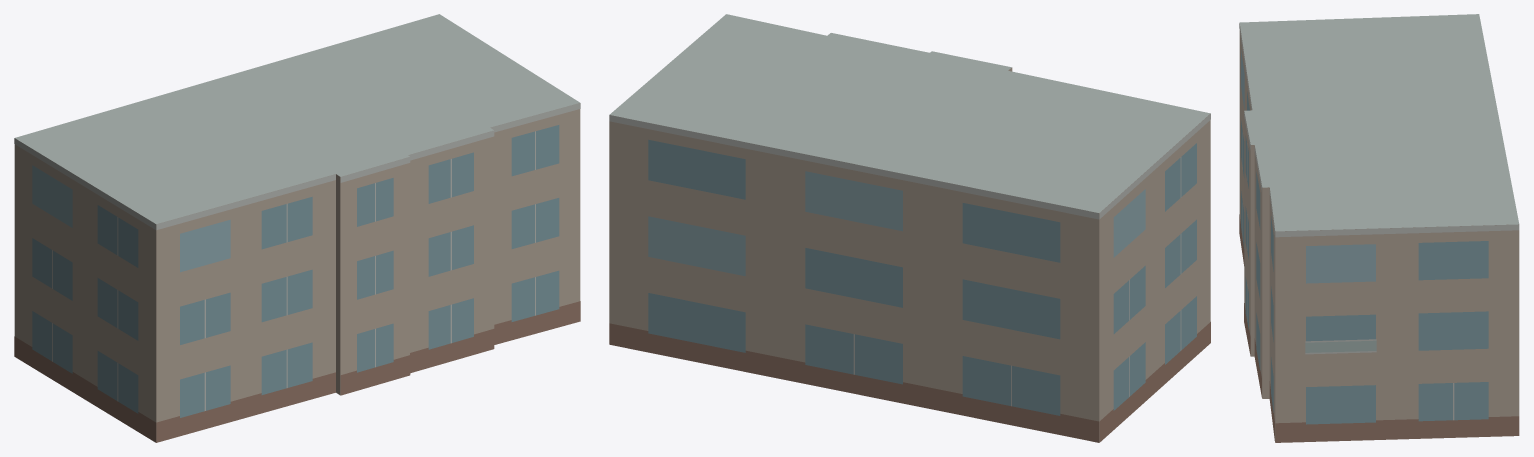
Rendered from survey-upis-32757054.glb.
3 renders of one model, left to right at view 1: azimuth 30°, elevation 25°; view 2: azimuth 150°, elevation 25°; view 3: azimuth 270°, elevation 25°, orthographic. The views are drawn at different scales.
Parts seen in each view (by area): view 1: survey-upis-32757054.tmp; view 2: survey-upis-32757054.tmp; view 3: survey-upis-32757054.tmp.
Boxes of the visible parts, x1=… form: survey-upis-32757054.tmp: x1=14, y1=14, x2=580, y2=442; survey-upis-32757054.tmp: x1=609, y1=14, x2=1210, y2=442; survey-upis-32757054.tmp: x1=1239, y1=14, x2=1519, y2=442.
Size of the model in its own units: 19.41 by 8.8 by 10.56.
